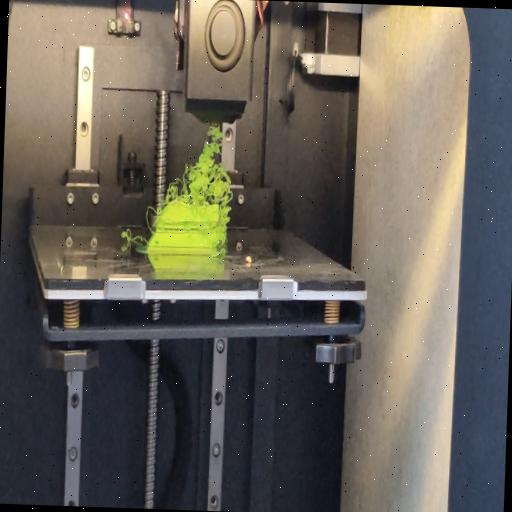spaghetti: (164, 122, 232, 205), (216, 206, 230, 258), (118, 228, 148, 246), (144, 206, 158, 236)
